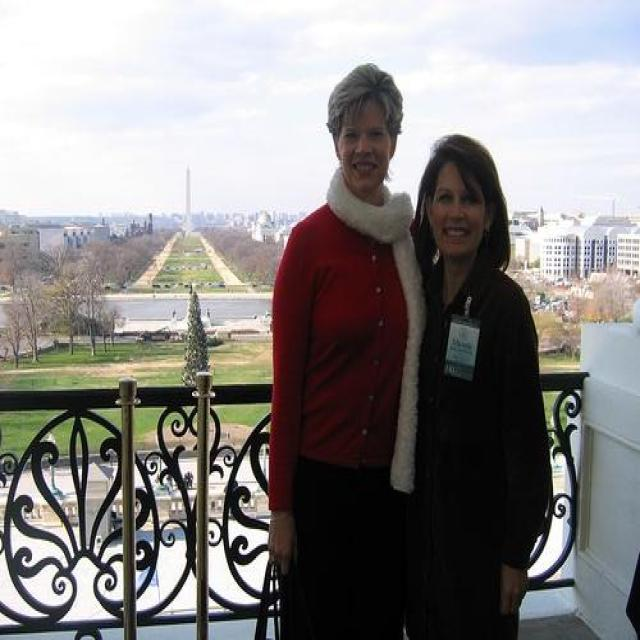No_Gloves: (262, 494, 298, 578), (502, 562, 534, 620)
